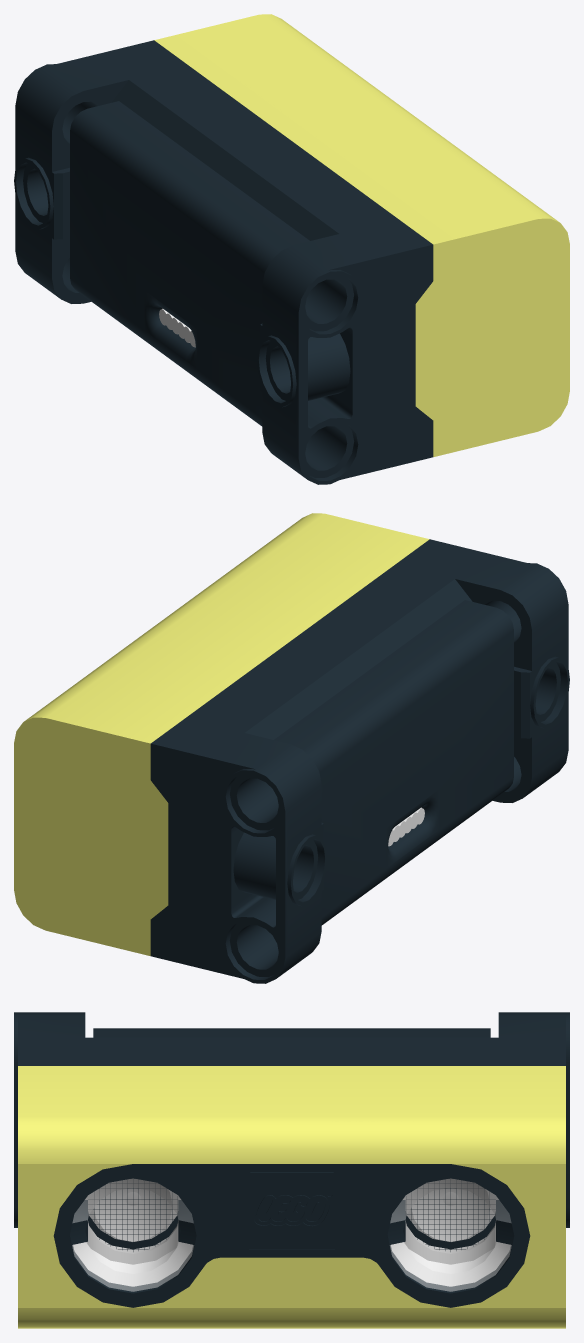
The model's file is distance-sensor.glb.
The picture shows the model from 3 angles, top to bottom: view 1: azimuth 30°, elevation 25°; view 2: azimuth 150°, elevation 25°; view 3: azimuth 270°, elevation 25°; orthographic projection.
Parts seen in each view (by area): view 1: u9470.dat, u9467.dat; view 2: u9470.dat, u9467.dat; view 3: u9467.dat, u9466.dat, u9470.dat, 55652.dat (×2), u9465.dat (×2), u9467c01.dat.
Part boxes in pixels (box(x1,y1,x2,y2)): u9470.dat: box(14, 40, 433, 484); u9467.dat: box(154, 14, 569, 456); u9470.dat: box(150, 539, 569, 983); u9467.dat: box(14, 513, 429, 955); u9467.dat: box(18, 1066, 565, 1328); u9466.dat: box(53, 1164, 530, 1307); u9470.dat: box(14, 1012, 569, 1227); 55652.dat (×2): box(85, 1178, 498, 1264); u9465.dat (×2): box(70, 1178, 513, 1291); u9467c01.dat: box(73, 1242, 510, 1286).
Size of the model in its own units: 3.16 by 2.32 by 5.6.
